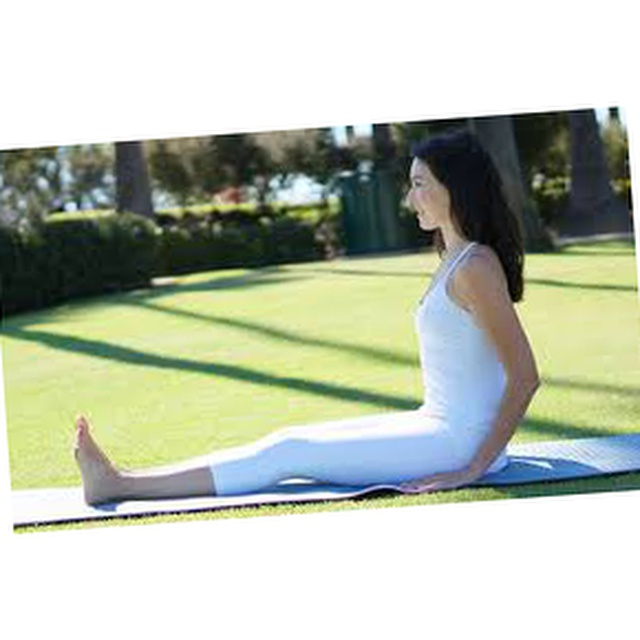Staff_Pose: (73, 128, 542, 508)
